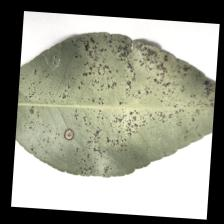canker: (59, 61, 171, 164)
